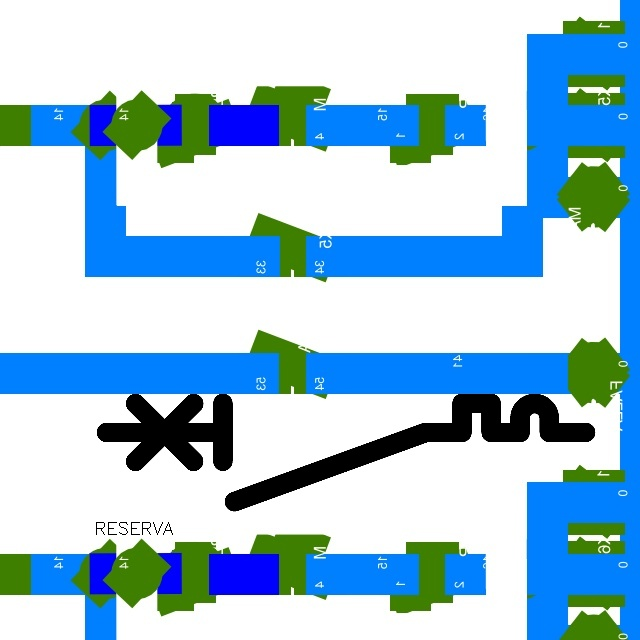interruptor_termomagnetico: (94, 391, 598, 514)
